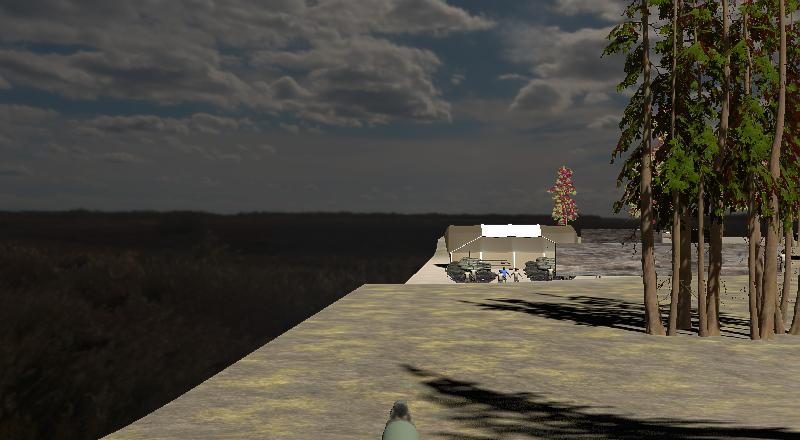Human: (496, 266, 509, 285)
Tank: (432, 256, 514, 286), (523, 254, 577, 282)
